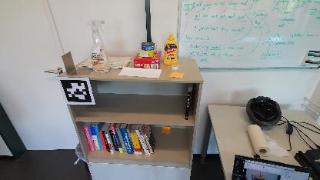book-spine: (119, 127, 133, 155), (135, 129, 148, 156), (111, 125, 123, 154), (138, 131, 151, 156), (115, 126, 127, 153), (130, 132, 142, 157), (83, 125, 94, 152), (126, 128, 136, 154), (108, 129, 119, 152), (90, 125, 100, 150), (94, 125, 103, 151), (101, 130, 111, 153), (104, 130, 113, 154), (144, 134, 153, 154), (185, 91, 191, 120), (99, 132, 107, 151)
